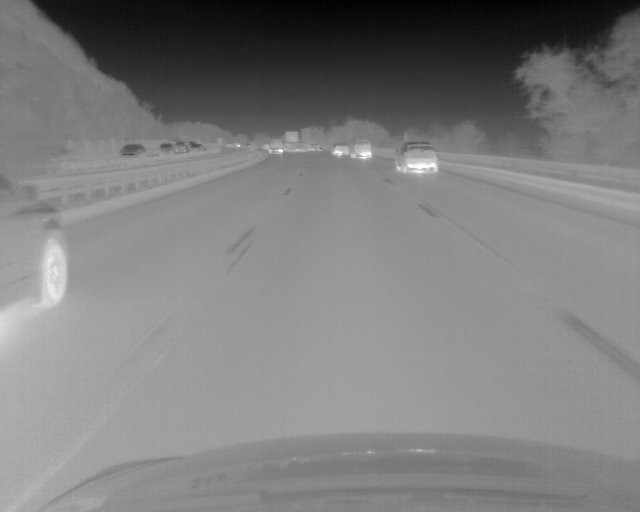car: (1, 180, 71, 313), (396, 142, 438, 173), (285, 131, 322, 153), (350, 139, 371, 158), (119, 144, 145, 156), (269, 139, 284, 155), (332, 143, 349, 156), (159, 142, 174, 155), (175, 141, 191, 153)
